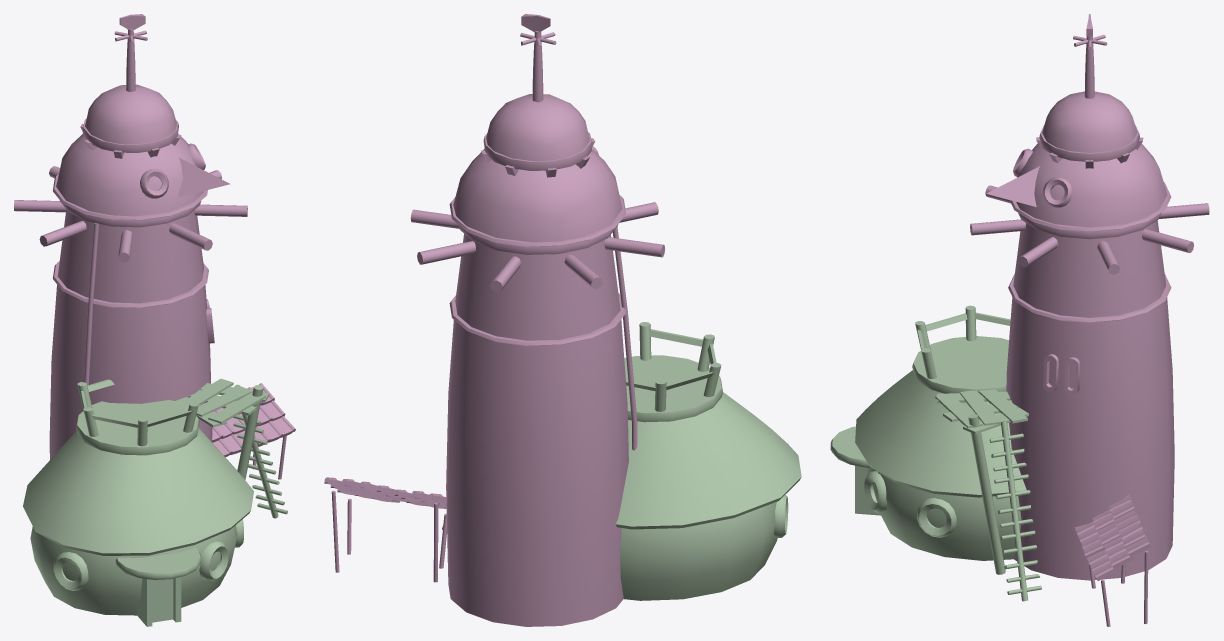
The model's file is House2.0 1.fbx.
The picture shows the model from 3 angles, left to right: view 1: azimuth 30°, elevation 25°; view 2: azimuth 150°, elevation 25°; view 3: azimuth 270°, elevation 25°; orthographic projection. The views are drawn at different scales.
Visible parts, largest first — view 1: Box108, Support_Toit020; view 2: Box108, Support_Toit020; view 3: Box108, Support_Toit020.
Boxes of the visible parts, x1,y1,x2,y2 form: Box108: [14, 14, 295, 479]; Support_Toit020: [23, 378, 287, 626]; Box108: [324, 14, 664, 626]; Support_Toit020: [442, 322, 801, 600]; Box108: [970, 14, 1209, 626]; Support_Toit020: [830, 305, 1041, 601].
Size of the model in its own units: 11.36 by 11.11 by 17.08.
